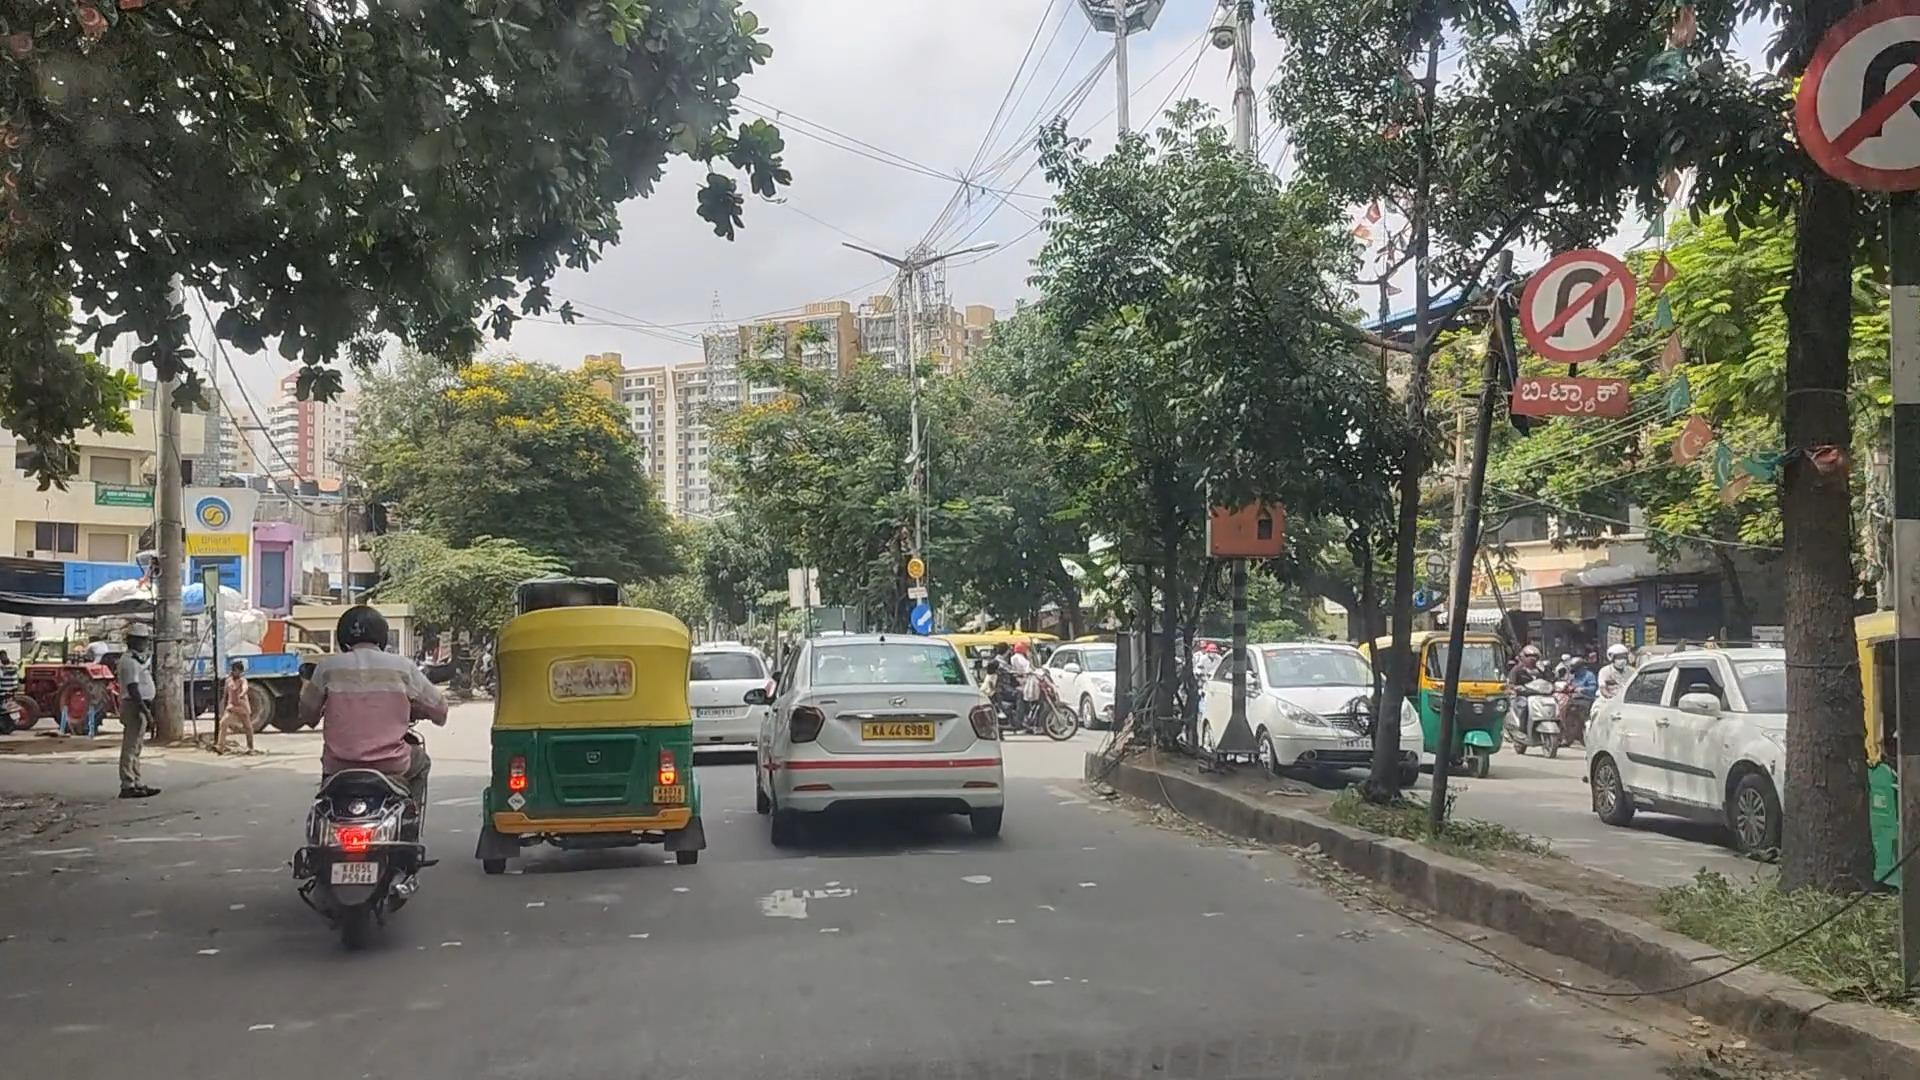LMV: (762, 615, 1013, 836), (491, 620, 707, 860), (302, 620, 429, 949)
SpeedBump: (87, 847, 1328, 957)
